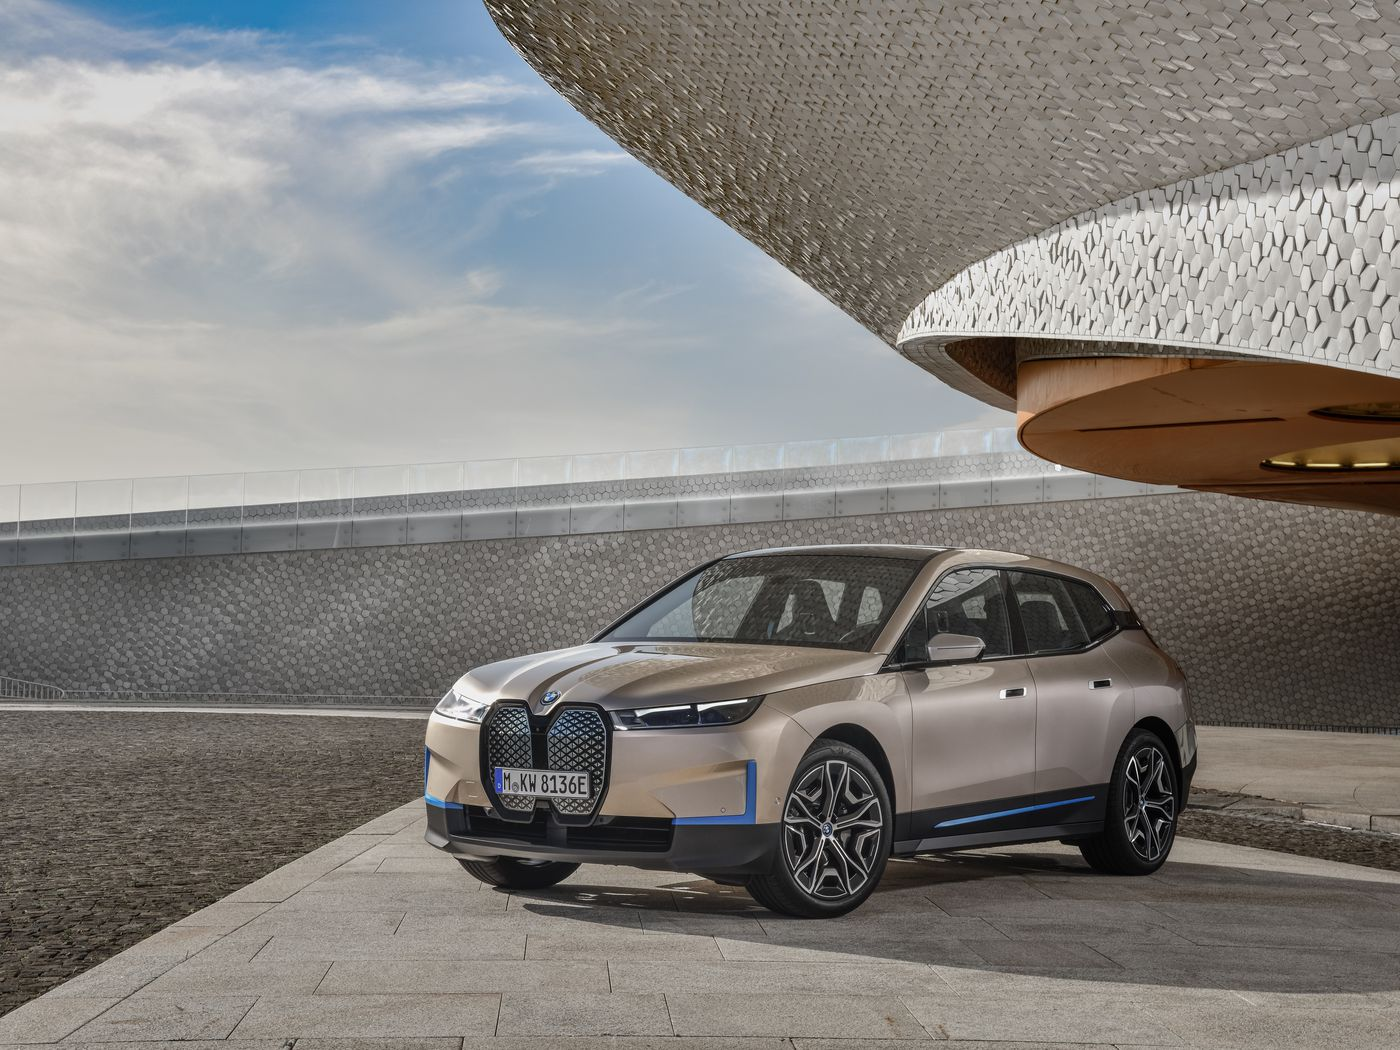car: (421, 543, 1197, 920)
